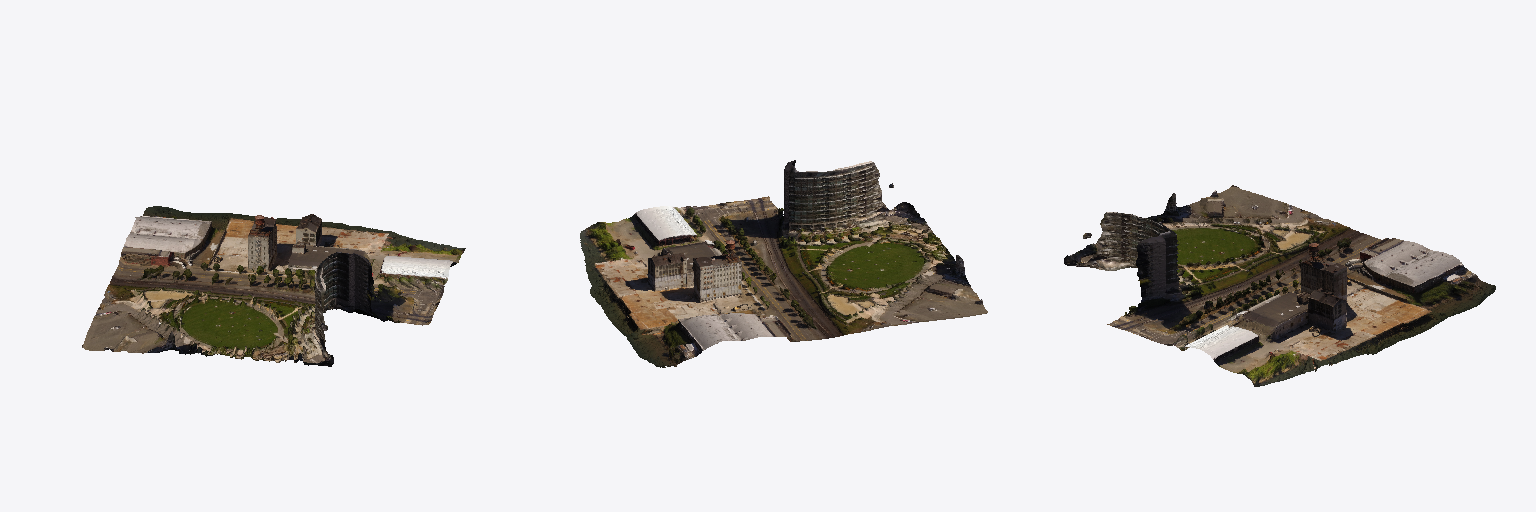
3 renders of one model, left to right at view 1: azimuth 30°, elevation 25°; view 2: azimuth 150°, elevation 25°; view 3: azimuth 270°, elevation 25°, orthographic.
Visible parts, largest first — view 1: downtown_detail; view 2: downtown_detail; view 3: downtown_detail.
Part boxes in pixels (left/top/right/bottom): downtown_detail: left=82, top=206, right=465, bottom=366; downtown_detail: left=580, top=160, right=987, bottom=367; downtown_detail: left=1064, top=185, right=1495, bottom=386.
Size of the model in its own units: 344 by 63.11 by 325.
1 materials, 1 textured.